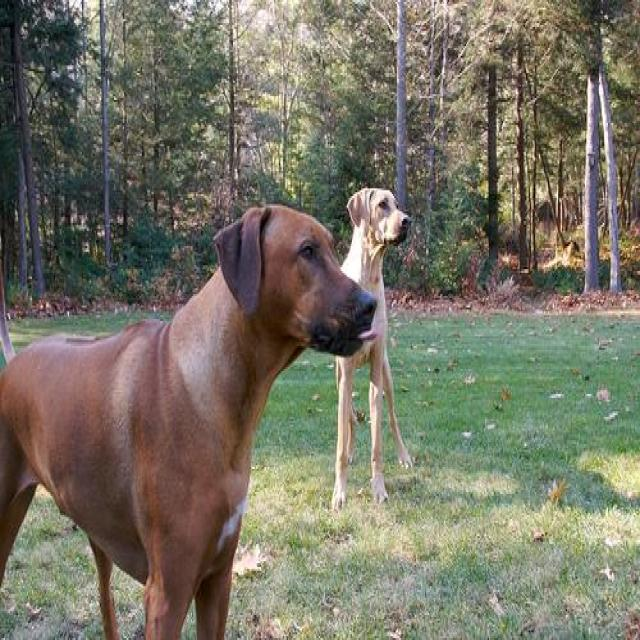rhodesian_ridgeback: (0, 204, 380, 636), (329, 186, 413, 509)
